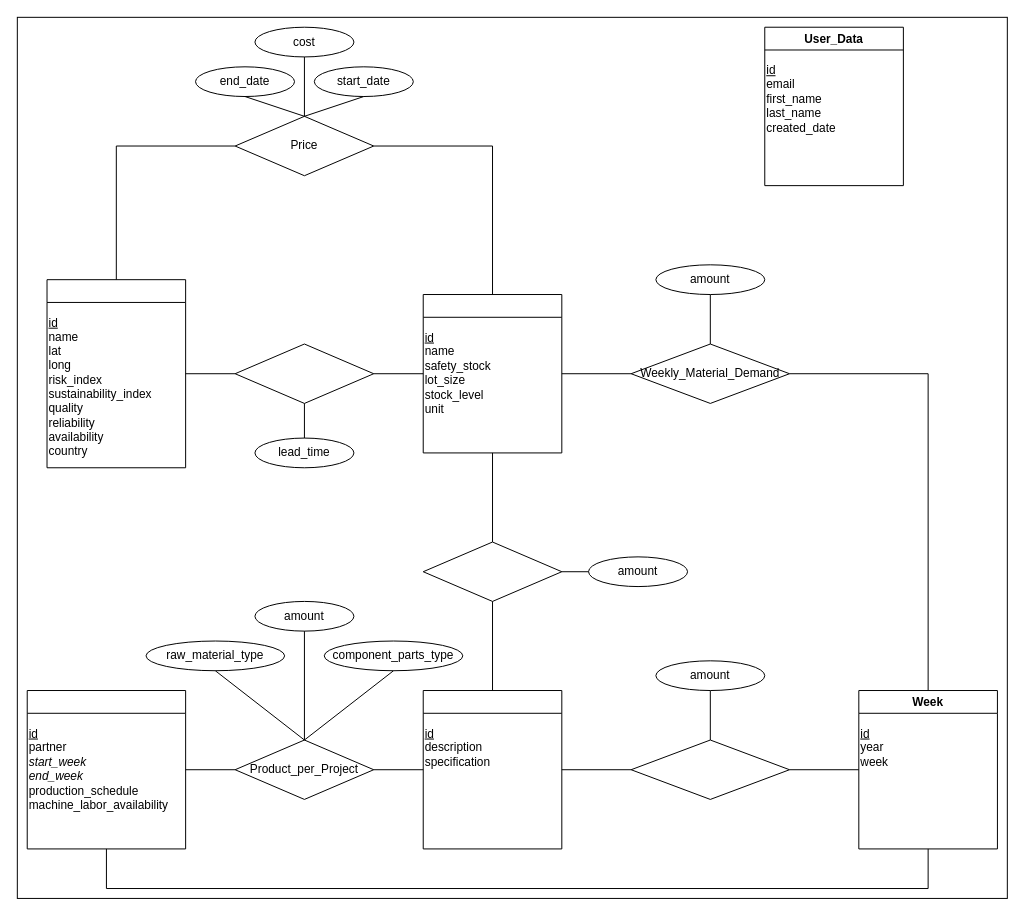
The diagram is 1025 pixels wide and 916 high, and some of its shapes have lost their labels. Each missing label, with the box of its shape:
Base_Production_Volume: (630, 739, 790, 799)
Material: (422, 294, 562, 453)
Material_per_Product: (422, 541, 562, 601)
Material_per_Supplier: (234, 343, 374, 403)
Product: (422, 690, 562, 849)
Project: (26, 690, 186, 849)
Supplier: (46, 279, 186, 468)
